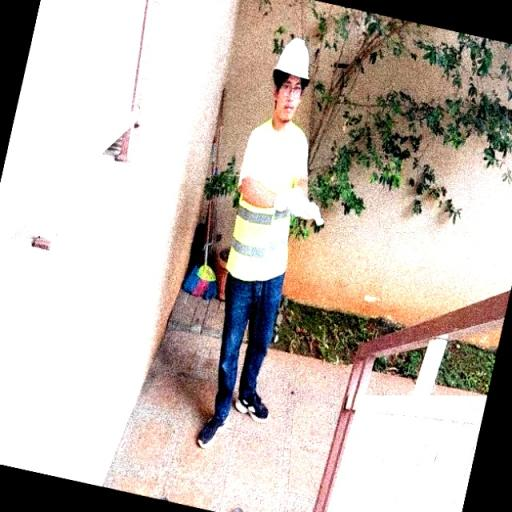Person: (177, 17, 333, 465)
boots: (234, 383, 273, 426), (192, 414, 230, 450)
gloves: (277, 185, 328, 226)
helmet: (270, 36, 314, 78)
vest: (224, 114, 310, 278)
